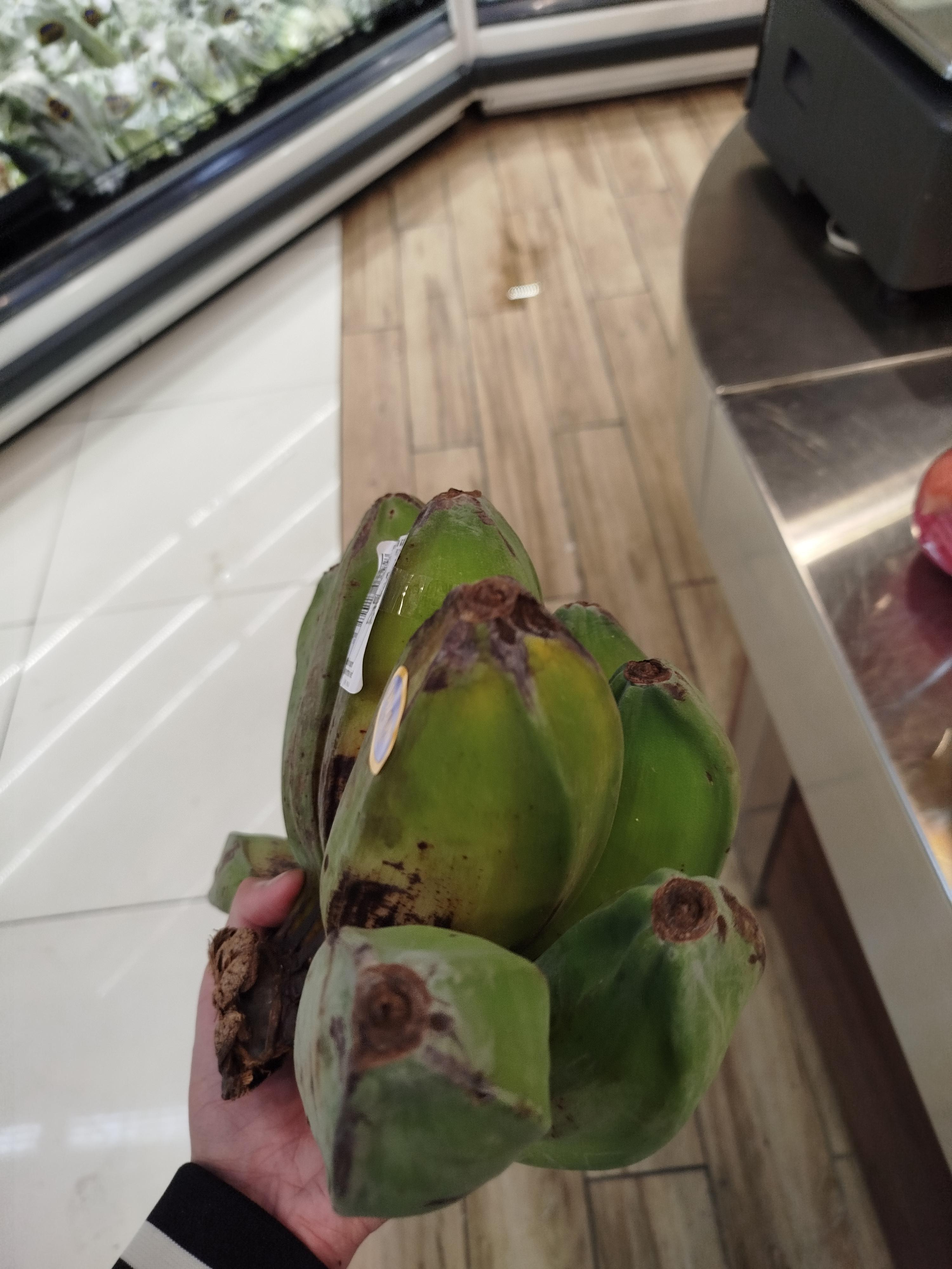underripe: (282, 489, 765, 1218)
